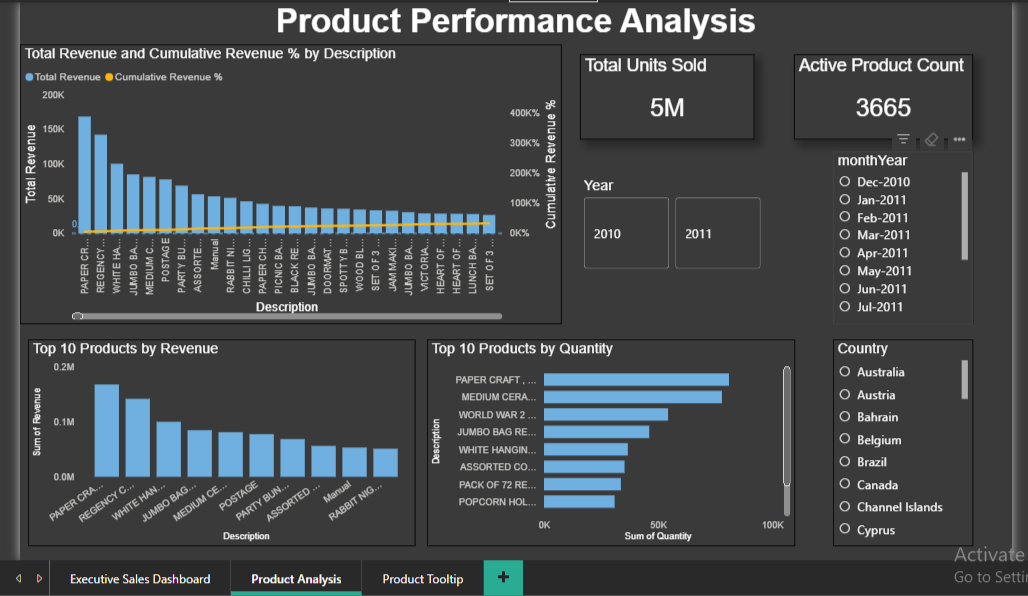

The dashboard page shown, as its layout file describes it:
{"tool":"powerbi","page":{"name":"Product Analysis","canvas":[1280,720],"ordinal":1},"visuals":[{"type":"textbox","title":"Product Performance Analysis","box":[0,0,1279.8,54.4],"z":0},{"type":"card","title":"Total Units Sold","fields":{"Values":["online_retail_actualclean.Total Quantity"]},"box":[722.9,67.6,224.8,110.2],"z":1000},{"type":"card","title":"Active Product Count","fields":{"Values":["online_retail_actualclean.Unique Products"]},"box":[999.2,67.6,230.7,110.2],"z":2000},{"type":"lineClusteredColumnComboChart","fields":{"Category":["online_retail_actualclean.Description"],"Y":["online_retail_actualclean.Total Revenue"],"Y2":["online_retail_actualclean.Cumulative Revenue %"]},"box":[0,54.2,699.4,361.3],"z":3000},{"type":"clusteredColumnChart","title":"Top 10 Products by Revenue","fields":{"Category":["online_retail_actualclean.Description"],"Y":["Sum(online_retail_actualclean.Revenue)"]},"box":[10.3,434.9,499.6,267.4],"z":4000},{"type":"clusteredBarChart","title":"Top 10 Products by Quantity","fields":{"Category":["online_retail_actualclean.Description"],"Y":["Sum(online_retail_actualclean.Quantity)"]},"box":[524.6,434.9,474.6,267.4],"z":5000},{"type":"advancedSlicerVisual","fields":{"Values":["online_retail_actualclean.Year"]},"box":[722.9,226.3,239.5,123.4],"z":6000},{"type":"listSlicer","fields":{"Values":["online_retail_actualclean.monthYear"]},"box":[1049.1,192.5,180.7,223.3],"z":7000},{"type":"listSlicer","fields":{"Values":["online_retail_actualclean.Country"]},"box":[1049.1,434.9,180.7,267.4],"z":8000}]}

Visuals, with their boxes on the page's 1280x720 design canvas (x1, y1, x2, y2). These are canvas units, not pixel positions in the 1028x596 screenshot, which may show the page scaled, cropped or inside an application window:
"Product Performance Analysis" textbox: [0,0,1280,54]
"Total Units Sold" card: [723,68,948,178]
"Active Product Count" card: [999,68,1230,178]
lineClusteredColumnComboChart - online_retail_actualclean.Description x online_retail_actualclean.Total Revenue: [0,54,699,416]
"Top 10 Products by Revenue" clusteredColumnChart: [10,435,510,702]
"Top 10 Products by Quantity" clusteredBarChart: [525,435,999,702]
advancedSlicerVisual - online_retail_actualclean.Year: [723,226,962,350]
listSlicer - online_retail_actualclean.monthYear: [1049,192,1230,416]
listSlicer - online_retail_actualclean.Country: [1049,435,1230,702]
